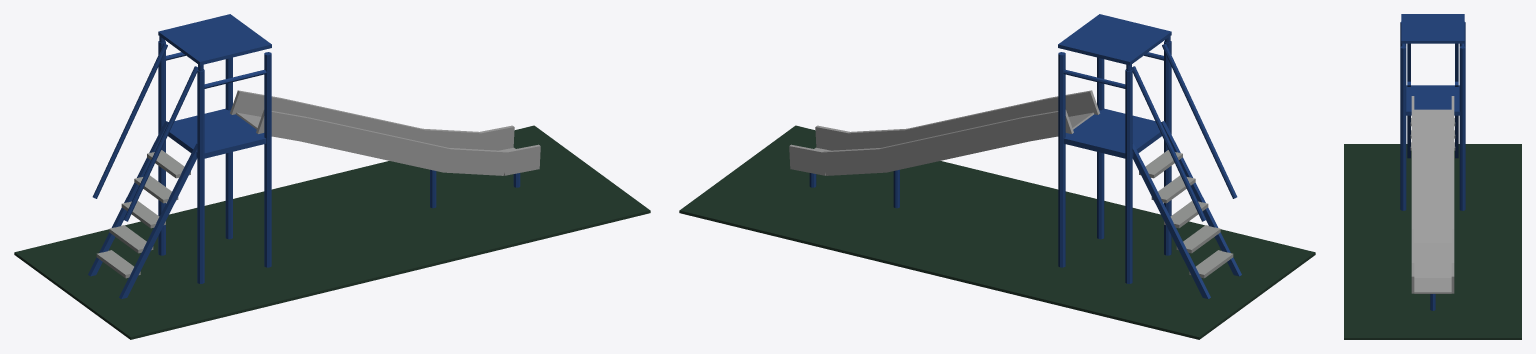
Rendered from SM_Prop_play_slide_0.glb.
The picture shows the model from 3 angles, left to right: view 1: azimuth 30°, elevation 25°; view 2: azimuth 150°, elevation 25°; view 3: azimuth 270°, elevation 25°; orthographic projection. The views are drawn at different scales.
Visible parts, largest first — view 1: SM_Prop_play_slide_0; view 2: SM_Prop_play_slide_0; view 3: SM_Prop_play_slide_0.
Part boxes in pixels (box(x1,y1,x2,y2)): SM_Prop_play_slide_0: box(14, 14, 650, 339); SM_Prop_play_slide_0: box(679, 14, 1315, 339); SM_Prop_play_slide_0: box(1344, 14, 1521, 339).
Bounding box in the file's own units: 6.2 × 2.63 × 2.4.
